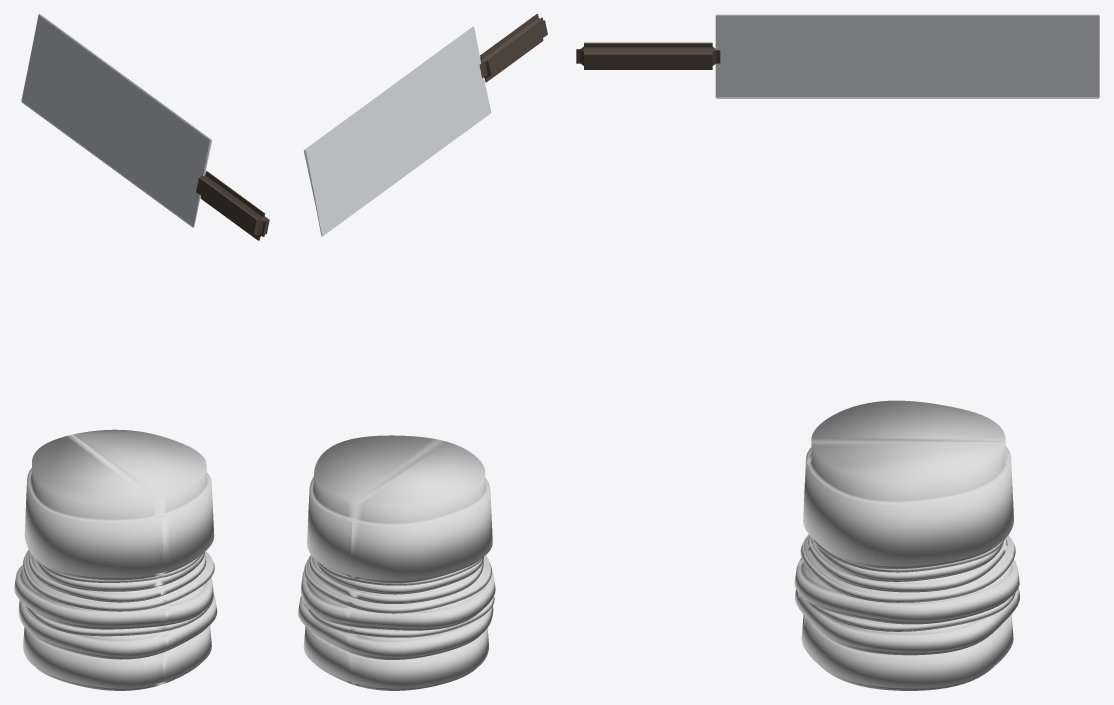
Rendered from halves.glb.
3 renders of one model, left to right at view 1: azimuth 30°, elevation 25°; view 2: azimuth 150°, elevation 25°; view 3: azimuth 270°, elevation 25°, orthographic. The views are drawn at different scales.
Parts seen in each view (by area): view 1: burger_half_right, knife_blade, burger_half_left, knife_handle; view 2: burger_half_right, knife_blade, burger_half_left, knife_handle; view 3: burger_half_left, knife_blade, burger_half_right, knife_handle.
Part boxes in pixels (x1,y1,x2,y2): burger_half_right: (14,434,166,690); knife_blade: (21,14,212,227); burger_half_left: (73,429,217,684); knife_handle: (196,171,269,240); burger_half_right: (349,440,495,690); knife_blade: (304,26,490,236); burger_half_left: (298,435,439,684); knife_handle: (479,14,547,82); burger_half_left: (794,442,1019,690); knife_blade: (715,14,1099,98); burger_half_right: (795,400,1019,642); knife_handle: (576,42,720,69).
Bounding box in the file's own units: 0.1169 × 0.3669 × 0.2725.
